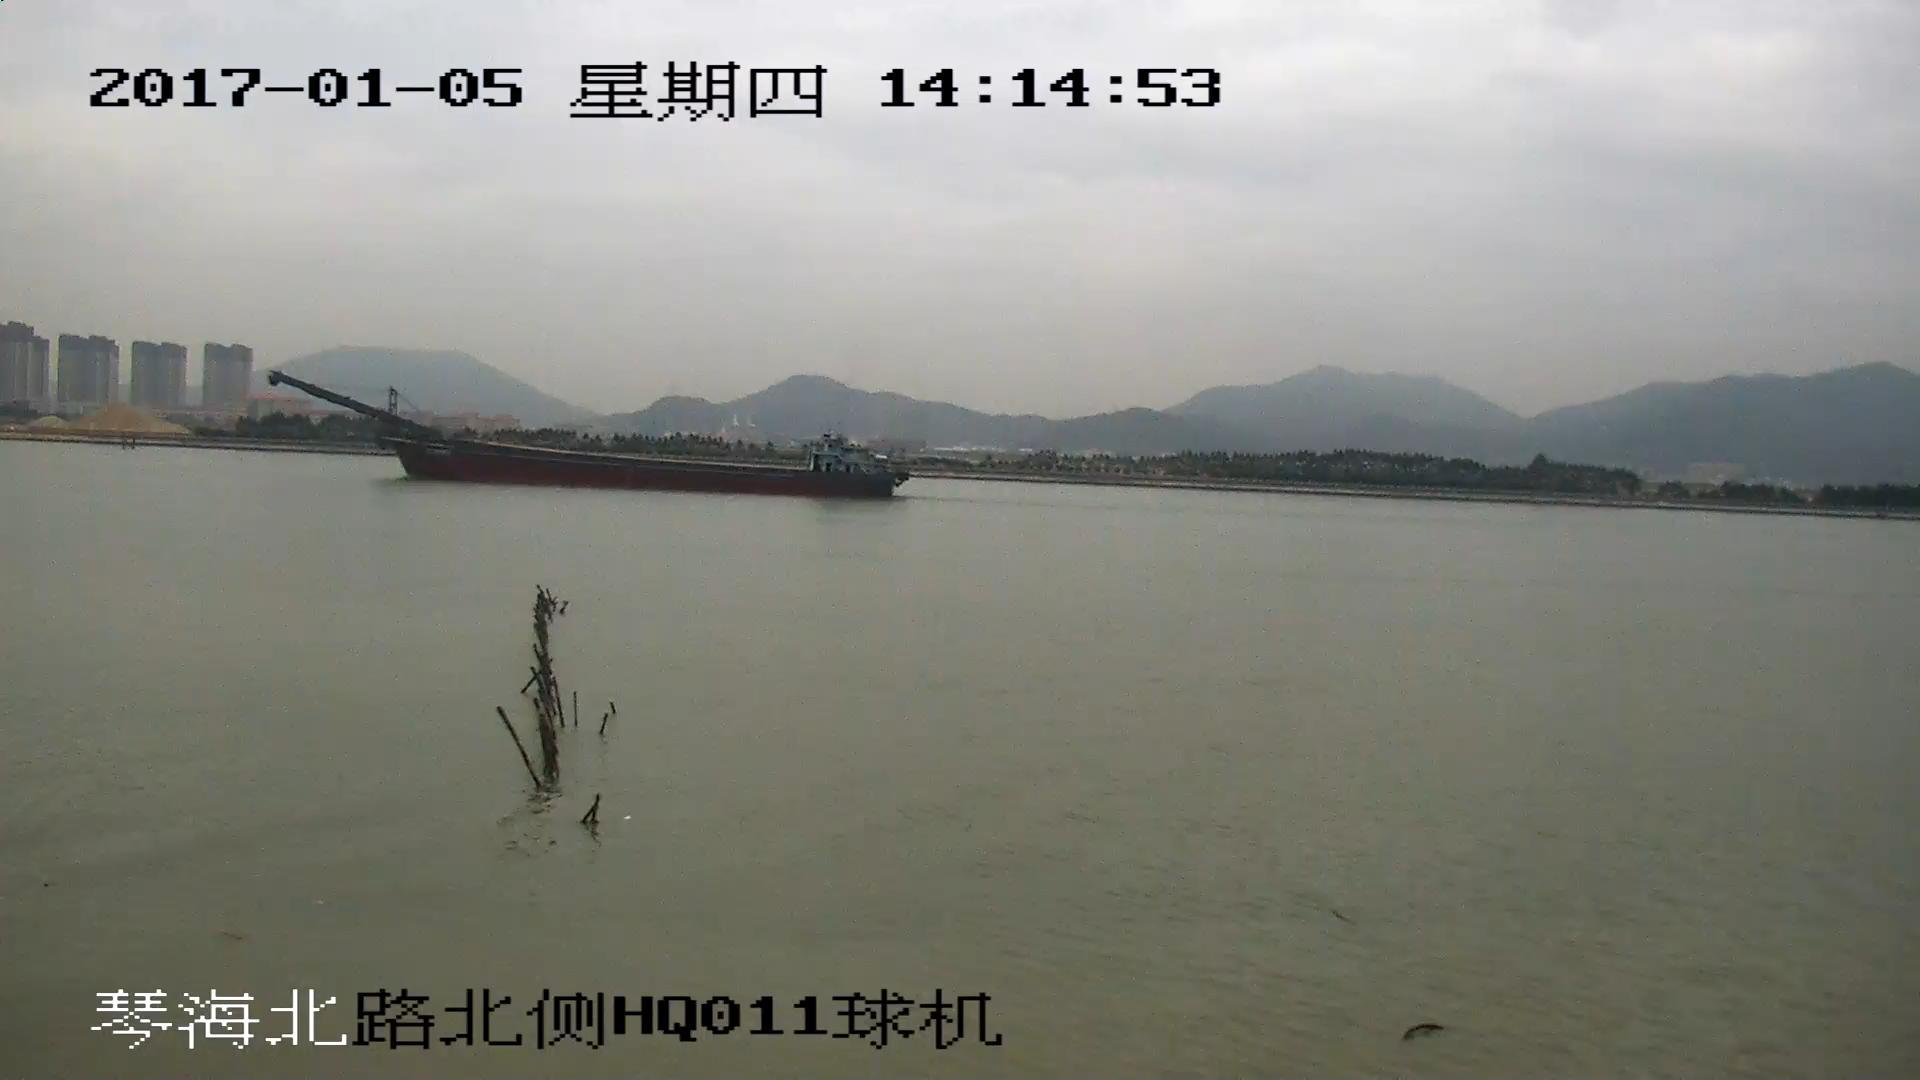Ship: (273, 375, 907, 500)
